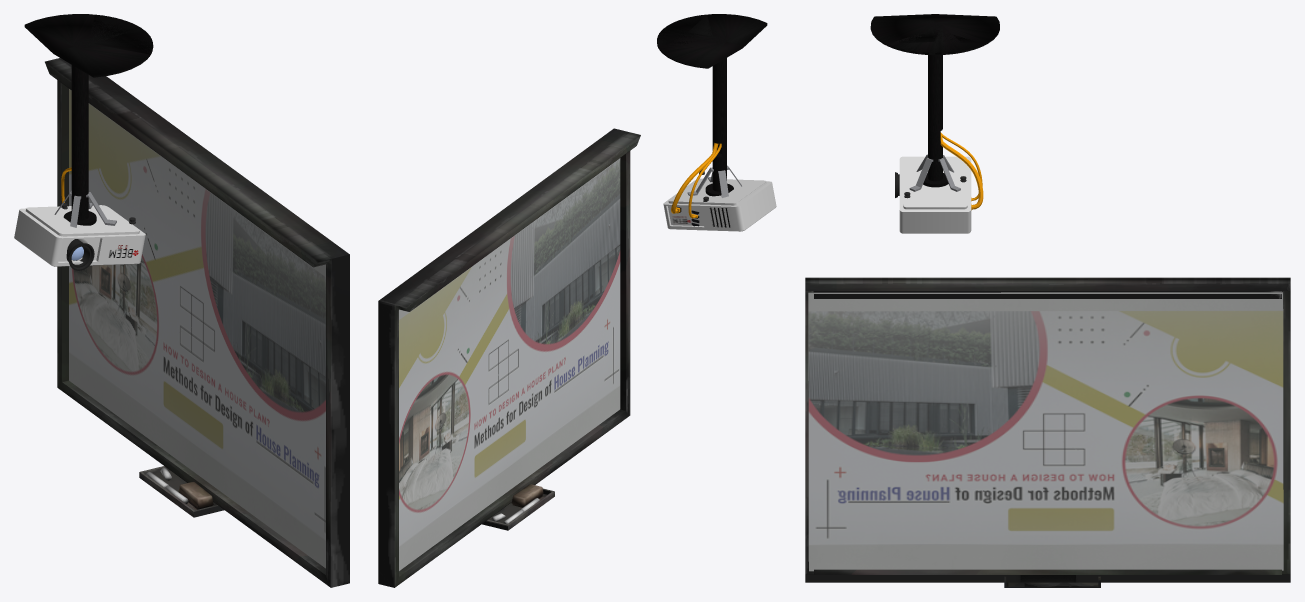
Rendered from projector.fbx.
3 renders of one model, left to right at view 1: azimuth 30°, elevation 25°; view 2: azimuth 150°, elevation 25°; view 3: azimuth 270°, elevation 25°, orthographic. The views are drawn at different scales.
Parts seen in each view (by area): view 1: board1, Pole, Main Case, Lens, Pole_leg; view 2: board1, Pole, Main Case; view 3: board1, Pole, Main Case.
Part boxes in pixels (x1,y1,x2,y2): board1: [45, 58, 349, 587]; Pole: [24, 14, 153, 225]; Main Case: [14, 205, 145, 266]; Lens: [66, 239, 94, 270]; Pole_leg: [54, 190, 116, 227]; board1: [378, 128, 640, 587]; Pole: [657, 14, 767, 196]; Main Case: [663, 178, 776, 231]; board1: [805, 277, 1290, 587]; Pole: [870, 14, 999, 187]; Main Case: [899, 156, 971, 233].
Size of the model in its own units: 128 by 270 by 249.
Materials: 2 (2 with a texture image).
